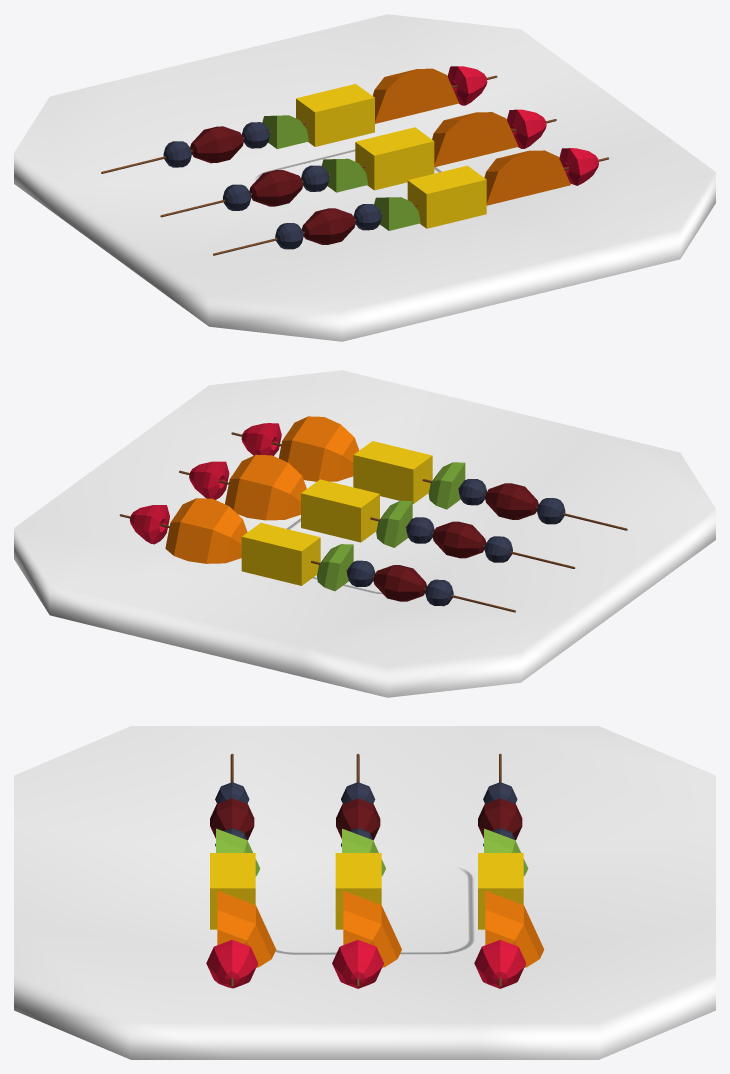
Rendered from fruitSkewers.fbx.
3 renders of one model, top to bottom at view 1: azimuth 30°, elevation 25°; view 2: azimuth 150°, elevation 25°; view 3: azimuth 270°, elevation 25°, orthographic. The views are drawn at different scales.
Parts seen in each view (by area): view 1: FruitSkewers; view 2: FruitSkewers; view 3: FruitSkewers.
Boxes of the visible parts, x1,y1,x2,y2 form: FruitSkewers: (14, 14, 715, 341); FruitSkewers: (14, 370, 715, 697); FruitSkewers: (14, 726, 715, 1059).
Bounding box in the file's own units: 40.64 × 5.78 × 40.64.
8 materials, 8 textured.
